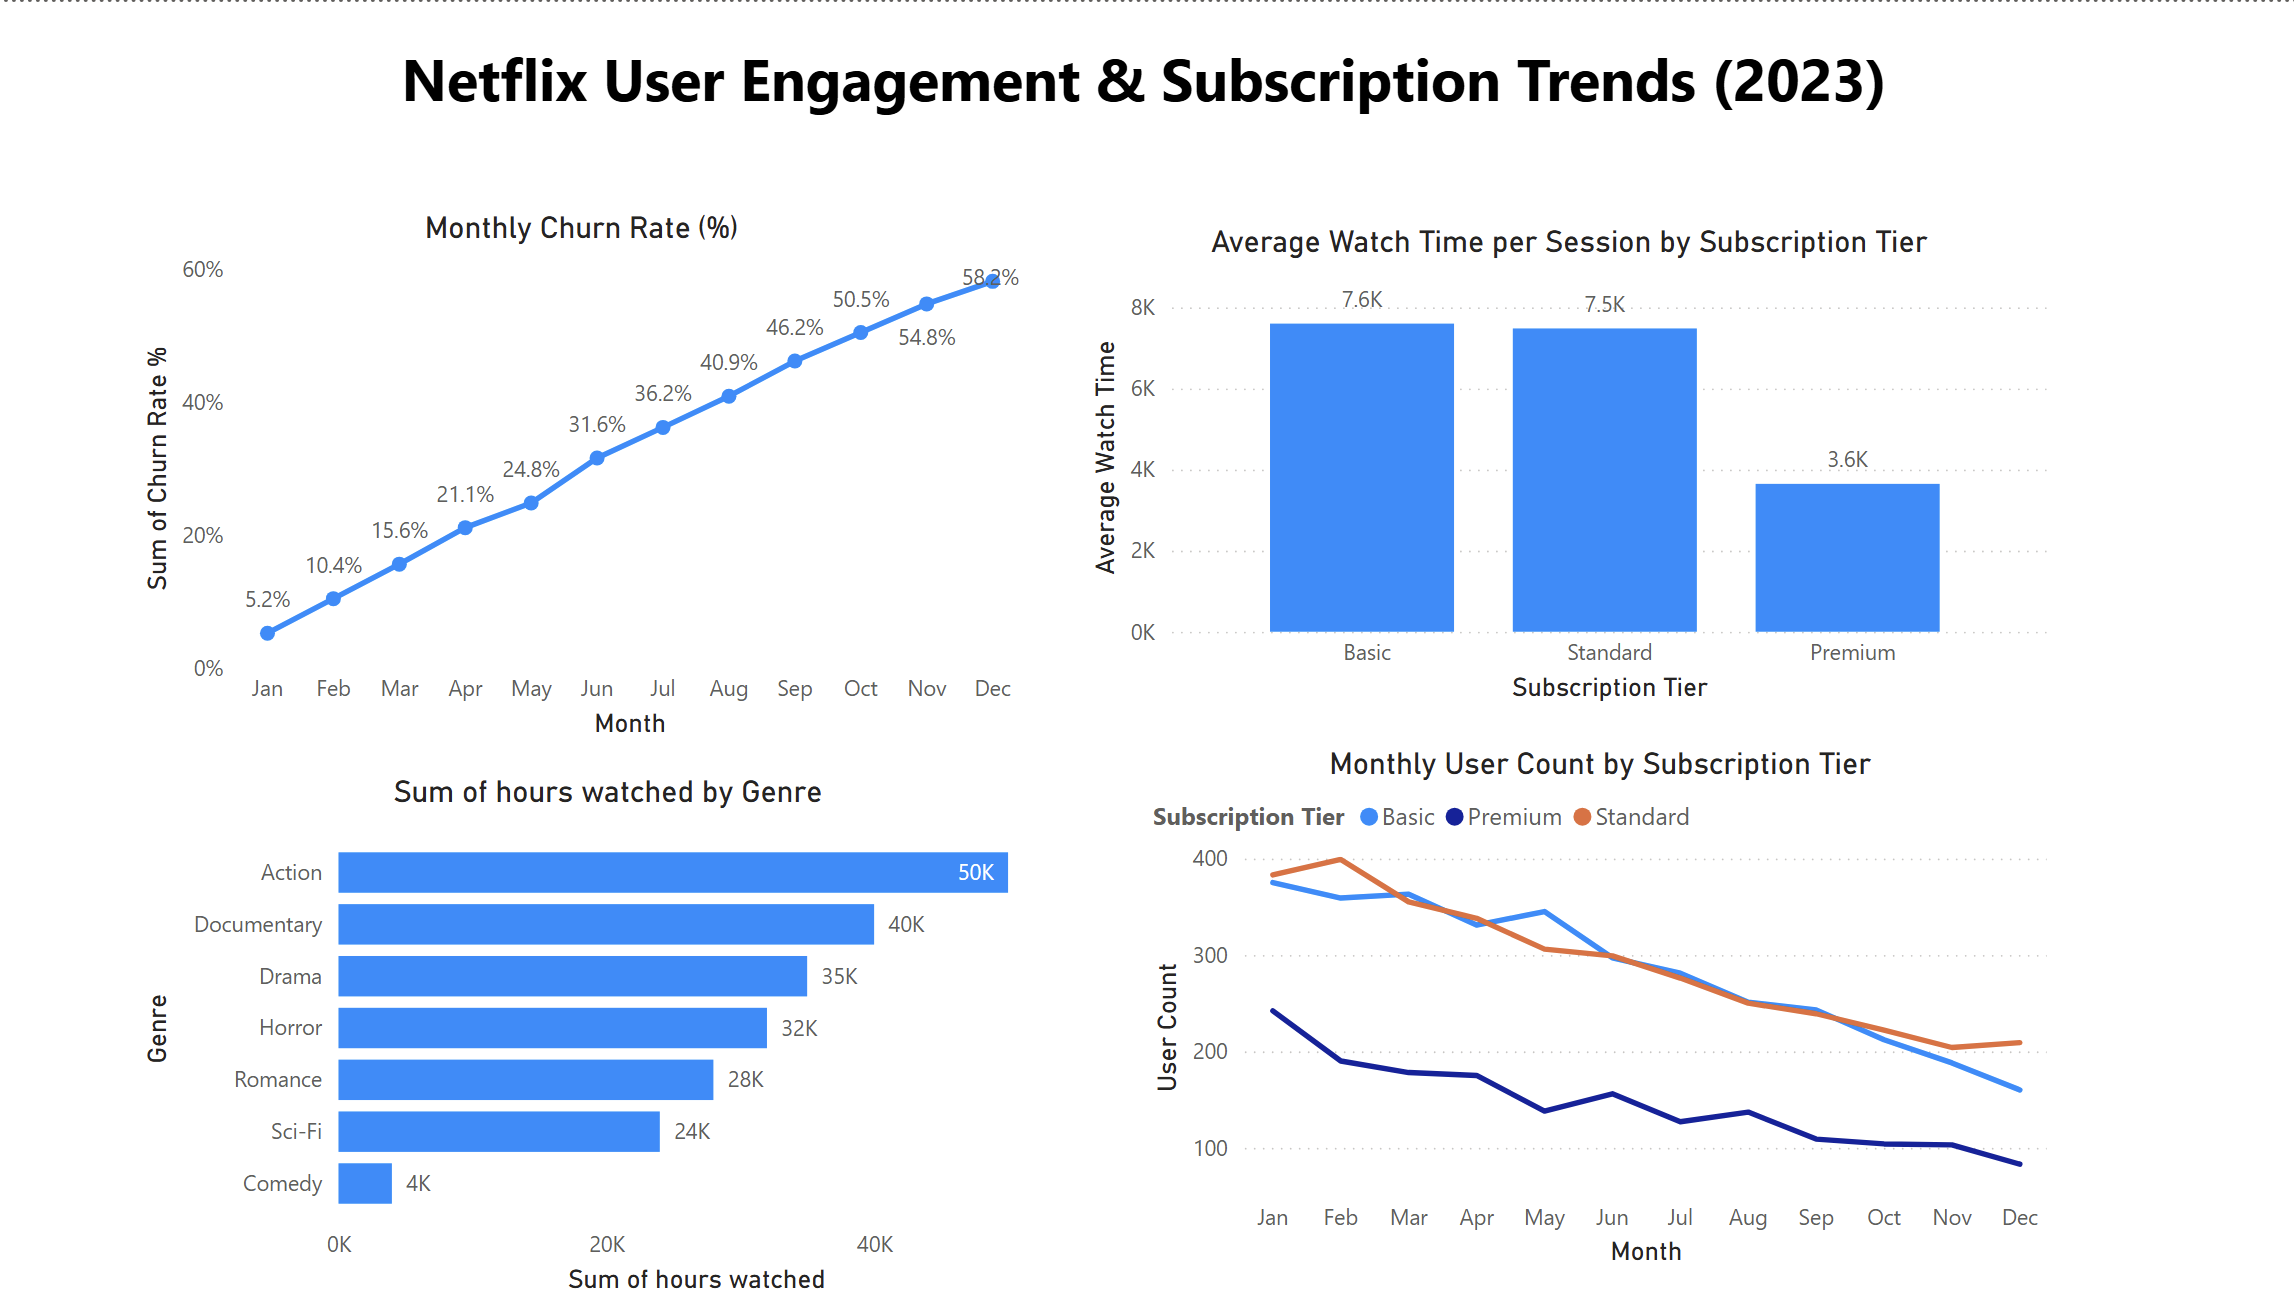

This screenshot's page, from the dashboard's own definition file:
{"tool":"powerbi","page":{"name":"Page 1","canvas":[1280,720],"ordinal":0},"visuals":[{"type":"lineChart","title":"Monthly Churn Rate (%)","fields":{"Category":["Monthly Churn Rate.MonthName"],"Y":["Sum(Monthly Churn Rate.Churn Rate %)"]},"box":[78.9,115.6,496.7,297.8],"z":0},{"type":"barChart","fields":{"Category":["Popular Content Genres (2).Row Labels"],"Y":["Sum(Popular Content Genres (2).Sum of hours watched)"]},"box":[78.9,428.9,526.7,293.3],"z":1000},{"type":"lineChart","title":"Monthly User Count by Subscription Tier","fields":{"Category":["Sub Growth Trends by Tier&time (3).MonthName"],"Series":["Sub Growth Trends by Tier&time (3).Subscription Tier"],"Y":["Sum(Sub Growth Trends by Tier&time (3).User Count)"]},"box":[640,413.3,506.7,293.3],"z":2000},{"type":"clusteredColumnChart","title":"Average Watch Time per Session by Subscription Tier","fields":{"Category":["User Engagement by Subscription (2).Row Labels"],"Y":["Sum(User Engagement by Subscription (2).Sum of Average Watch Time per Session)"]},"box":[605.6,123.3,541.1,270],"z":3000},{"type":"textbox","box":[0,15.6,1280,55.6],"z":4000}]}

Visuals, with their boxes in screenshot pixels (x1, y1, x2, y2), scaled from the page's 1280x720 canvas onto the 2294x1296 screenshot:
"Monthly Churn Rate (%)" lineChart: left=141, top=208, right=1032, bottom=744
barChart - Popular Content Genres (2).Row Labels x Sum(Popular Content Genres (2).Sum of hours watched): left=141, top=772, right=1085, bottom=1295
"Monthly User Count by Subscription Tier" lineChart: left=1147, top=744, right=2055, bottom=1272
"Average Watch Time per Session by Subscription Tier" clusteredColumnChart: left=1085, top=222, right=2055, bottom=708
textbox: left=0, top=28, right=2293, bottom=128
